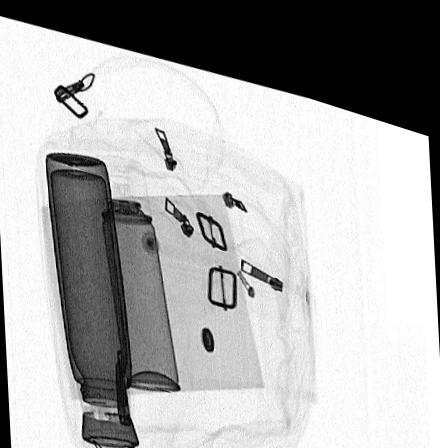Sprayer: (100, 147, 181, 381)
